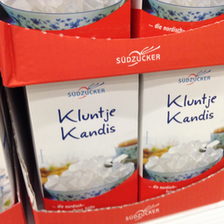sugar: (25, 73, 139, 209), (140, 66, 224, 202)
